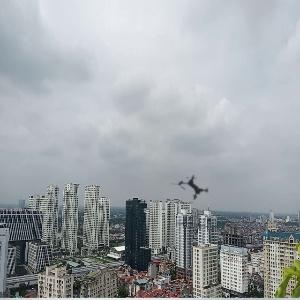drone: (159, 155, 227, 223)
